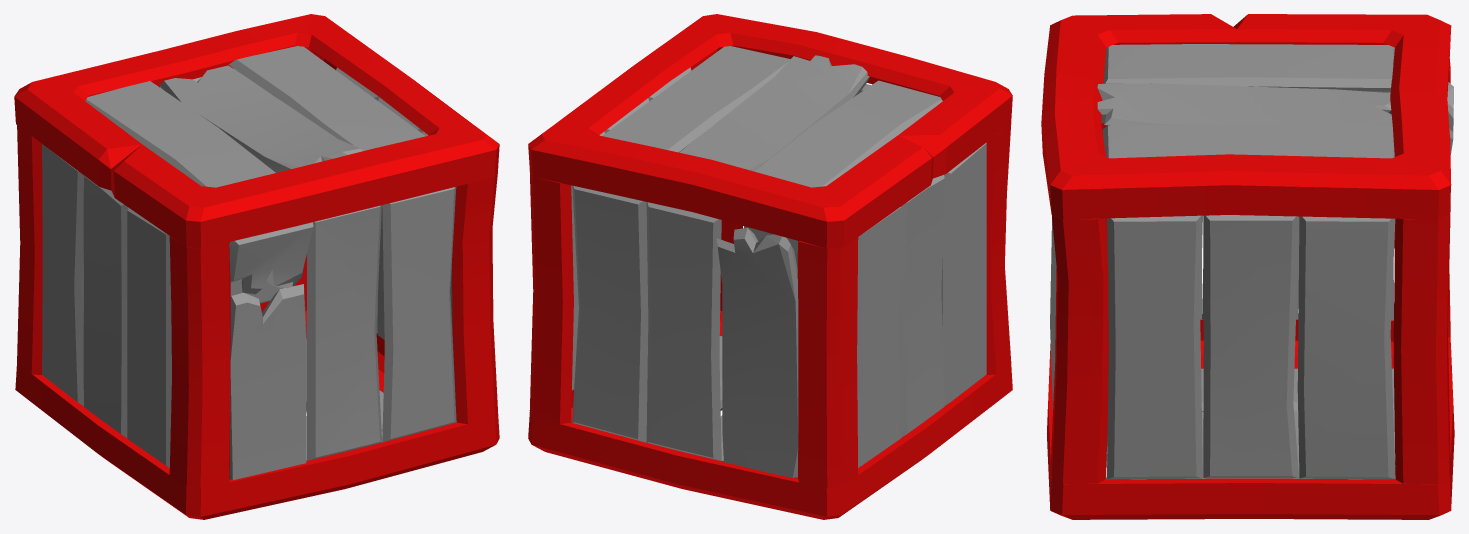
The model's file is MESH_Props_WoodBox_01.fbx.
3 renders of one model, left to right at view 1: azimuth 30°, elevation 25°; view 2: azimuth 150°, elevation 25°; view 3: azimuth 270°, elevation 25°, orthographic. The views are drawn at different scales.
Visible parts, largest first — view 1: MESH_Props_WoodBox_01; view 2: MESH_Props_WoodBox_01; view 3: MESH_Props_WoodBox_01.
Part boxes in pixels (box(x1,y1,x2,y2)): MESH_Props_WoodBox_01: box(14, 14, 499, 519); MESH_Props_WoodBox_01: box(528, 14, 1012, 519); MESH_Props_WoodBox_01: box(1041, 14, 1454, 519).
Size of the model in its own units: 1.5 by 1.43 by 1.53.
